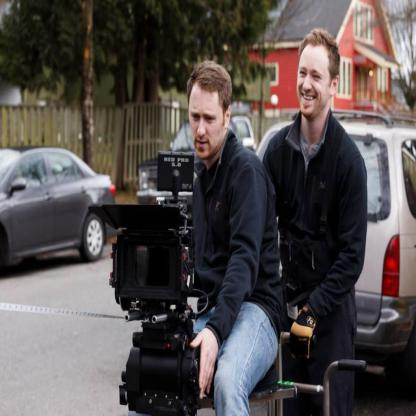Camera: (88, 150, 207, 415)
